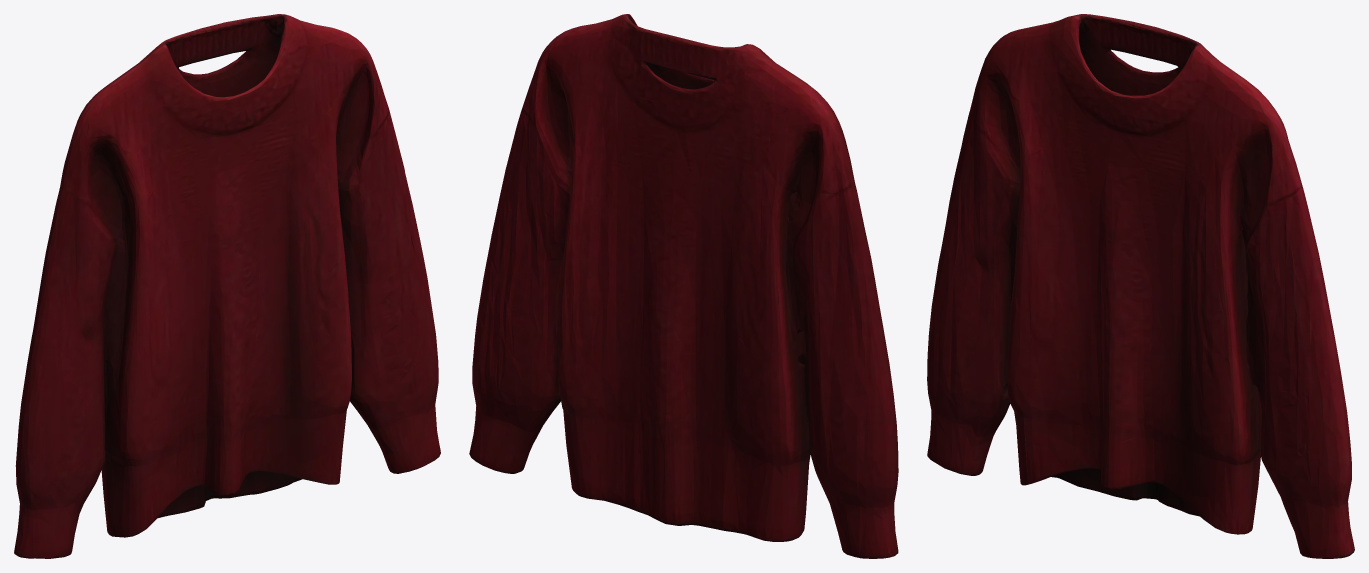
3 views of the same model, side by side, from view 1: azimuth 30°, elevation 25°; view 2: azimuth 150°, elevation 25°; view 3: azimuth 330°, elevation 25° (orthographic).
Parts seen in each view (by area): view 1: geometry_0; view 2: geometry_0; view 3: geometry_0.
Boxes of the visible parts, left/top/right/bottom form: geometry_0: left=14, top=14, right=440, bottom=558; geometry_0: left=469, top=14, right=898, bottom=558; geometry_0: left=927, top=14, right=1354, bottom=558.
Size of the model in its own units: 0.9163 by 0.9986 by 0.1419.
Materials: 1 (1 with a texture image).
